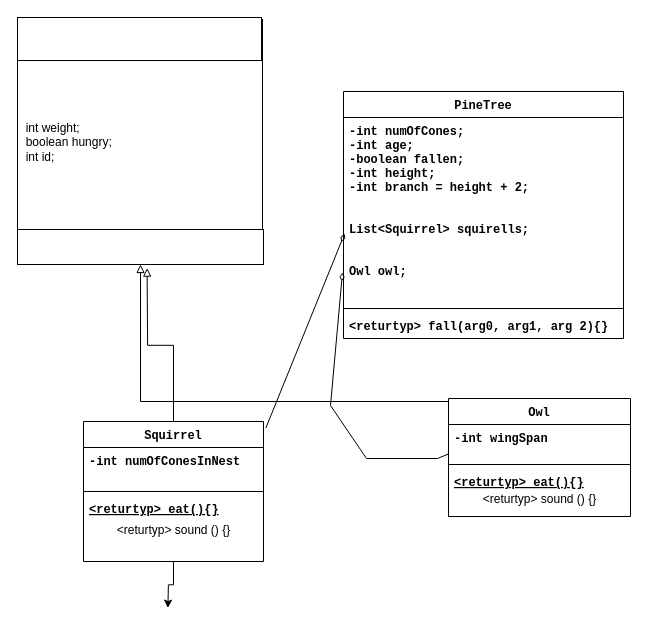
Image size: 648x634. Some labels were removed from this diagram. Each missing label, with the centre of its shape:
<returtyp> sound() {} <returtyp> eat () {}: (x=140, y=246)
Animal: (x=139, y=38)
